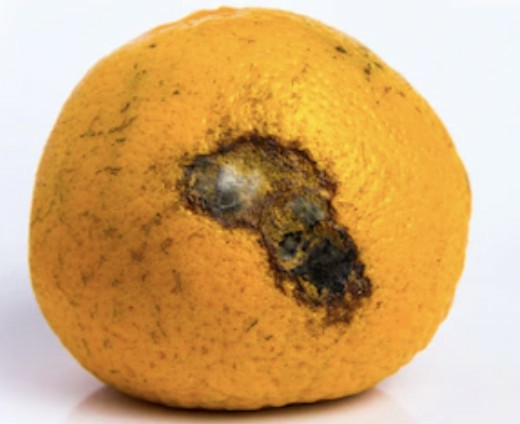rotten_orange: (25, 5, 475, 411)
